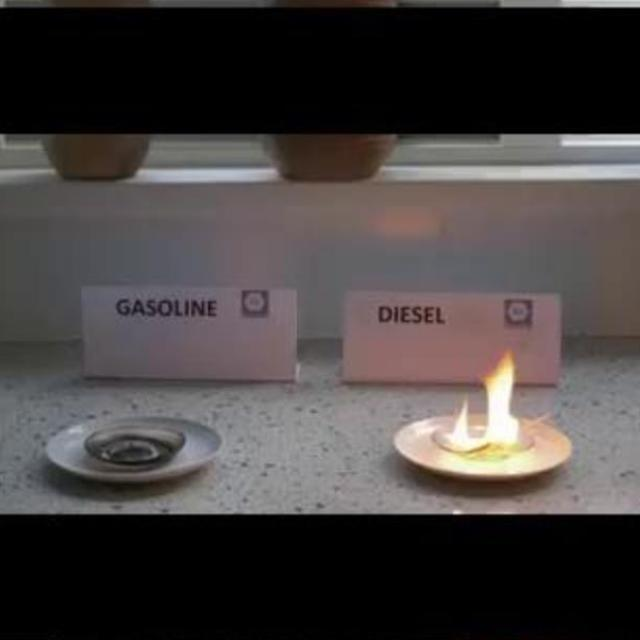smoke: (447, 348, 526, 456)
